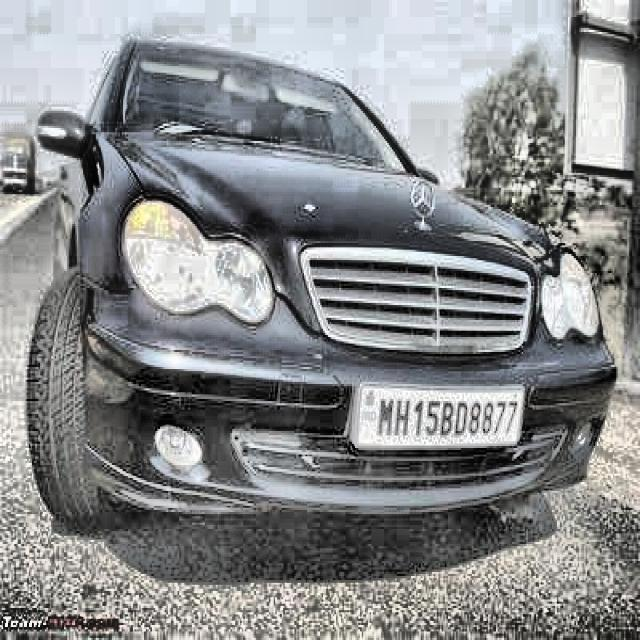license_plate: (358, 383, 526, 450)
